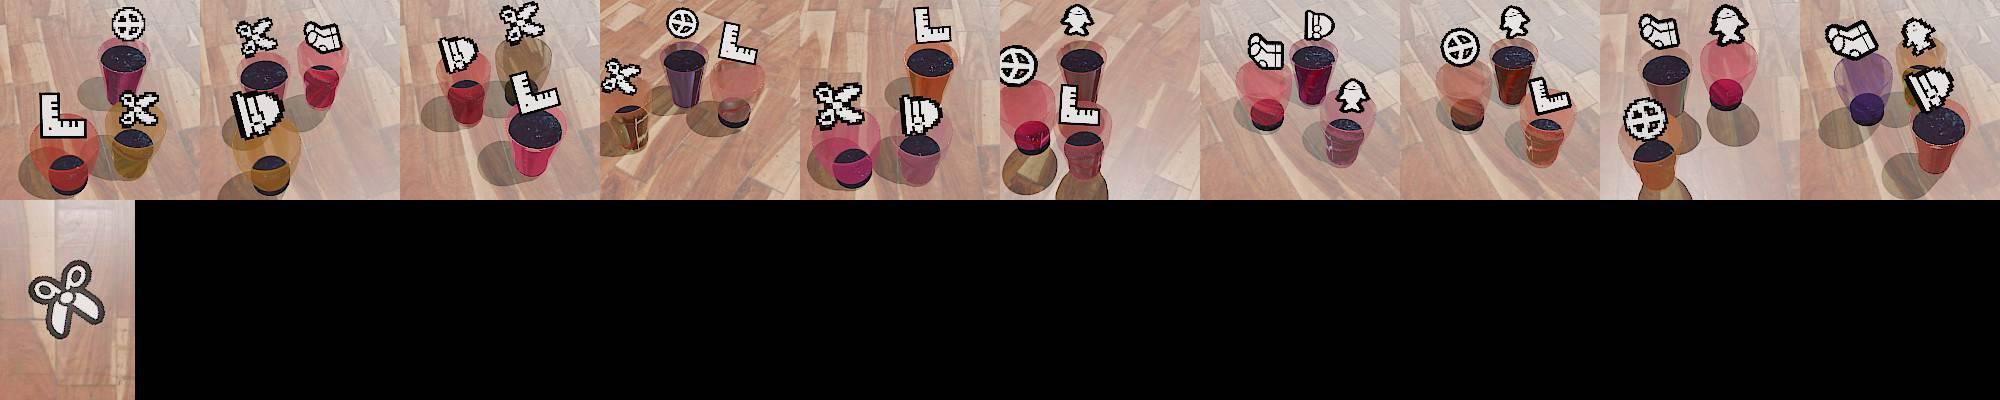icon: (26, 260, 107, 340), (231, 89, 286, 140), (505, 69, 560, 117), (815, 79, 867, 129), (1903, 65, 1955, 113), (38, 90, 87, 139), (1825, 19, 1880, 60), (1622, 96, 1670, 141), (499, 0, 545, 45), (901, 92, 944, 139), (716, 20, 759, 66), (1059, 82, 1099, 127), (1528, 74, 1571, 116), (997, 45, 1038, 88), (236, 17, 278, 57), (437, 36, 480, 76), (1708, 4, 1749, 46), (912, 5, 955, 45), (1440, 27, 1480, 68), (1638, 14, 1681, 51), (117, 90, 159, 127), (1247, 32, 1286, 71), (1901, 17, 1937, 57), (302, 19, 344, 55), (601, 59, 642, 94), (1333, 76, 1370, 113), (1497, 5, 1532, 41), (111, 6, 145, 41), (1060, 4, 1094, 37), (1304, 9, 1337, 42), (666, 8, 699, 39)
